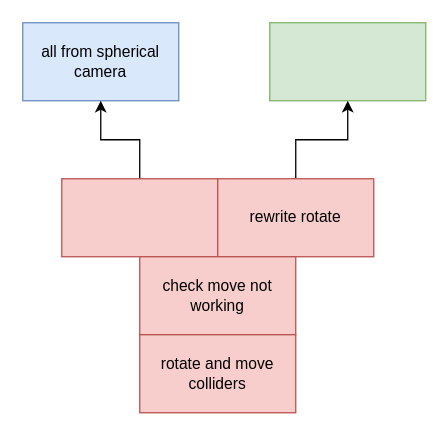
This 448x435 diagram has some shape labels left out. Each missing label, with the centre of its shape:
custom colliders: [347,61]
is collider should be handled inside classes: [139,217]
